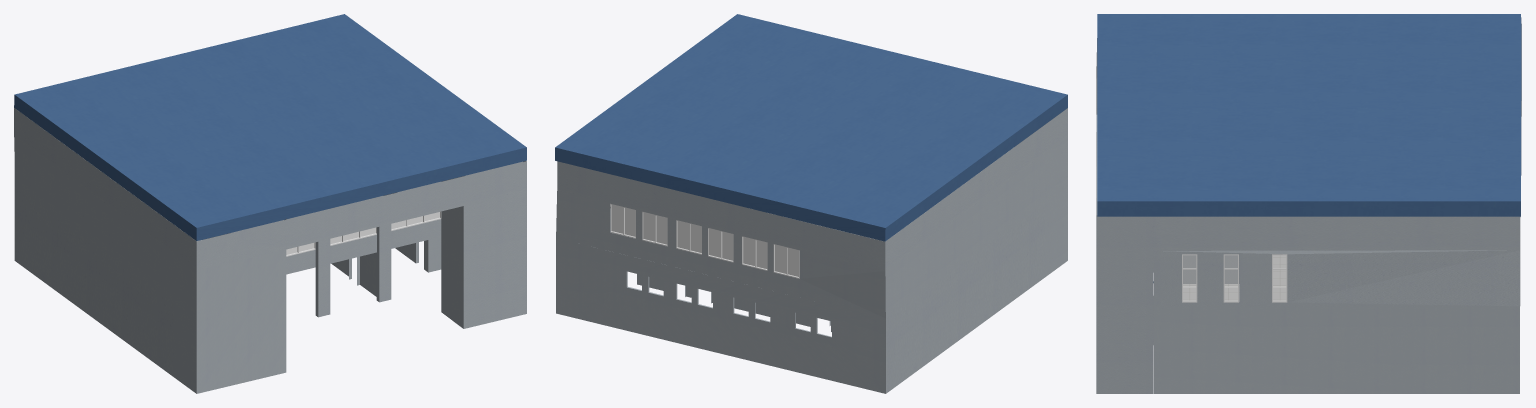
The model's file is 300-P1OPT.glb.
The picture shows the model from 3 angles, left to right: view 1: azimuth 30°, elevation 25°; view 2: azimuth 150°, elevation 25°; view 3: azimuth 270°, elevation 25°; orthographic projection. The views are drawn at different scales.
Visible parts, largest first — view 1: Techo_P1.001, Frente_PB, Ventanas_P1; view 2: Techo_P1.001, Frente_PB, Ventanas_P1; view 3: Frente_PB, Techo_P1.001, Ventanas_P1, Piso_P1.001.
Part boxes in pixels (x1=…): Techo_P1.001: x1=14, y1=108, x2=526, y2=393; Frente_PB: x1=14, y1=14, x2=526, y2=240; Ventanas_P1: x1=286, y1=211, x2=441, y2=256; Techo_P1.001: x1=556, y1=108, x2=1067, y2=393; Frente_PB: x1=555, y1=14, x2=1067, y2=241; Ventanas_P1: x1=610, y1=204, x2=799, y2=278; Frente_PB: x1=1097, y1=14, x2=1521, y2=282; Techo_P1.001: x1=1096, y1=38, x2=1521, y2=393; Ventanas_P1: x1=1182, y1=254, x2=1287, y2=302; Piso_P1.001: x1=1183, y1=255, x2=1286, y2=301.
Bounding box in the file's own units: 0.2119 × 0.1018 × 0.2035.
Materials: 8 (4 with a texture image).
